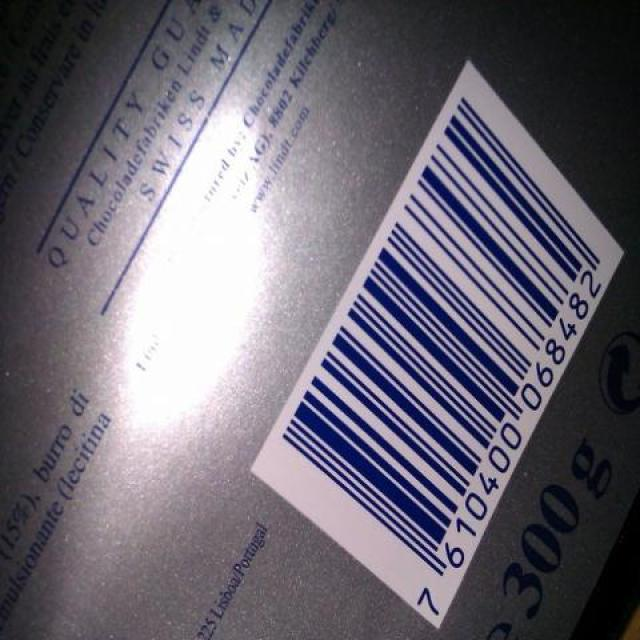Barcode: (251, 59, 625, 630)
